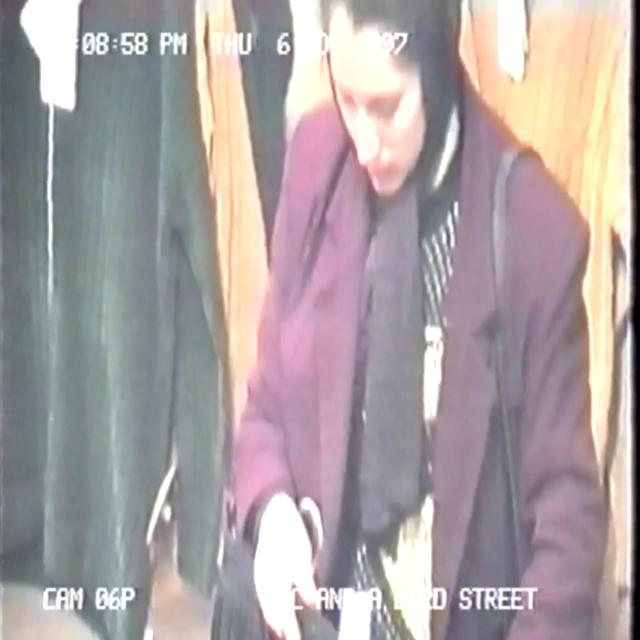Product: (195, 507, 346, 640)
shoplifting: (178, 0, 636, 640)
